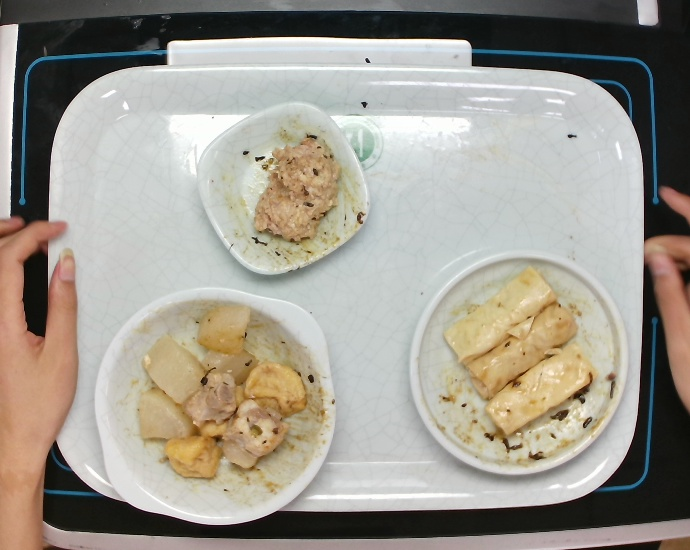JYsf-Shuang_Er_Wan: (89, 279, 341, 529)
JYsf-Si_Fang_Die: (191, 96, 375, 282)
JYsf-Xiao_Yuan_Pan: (402, 245, 634, 481)
